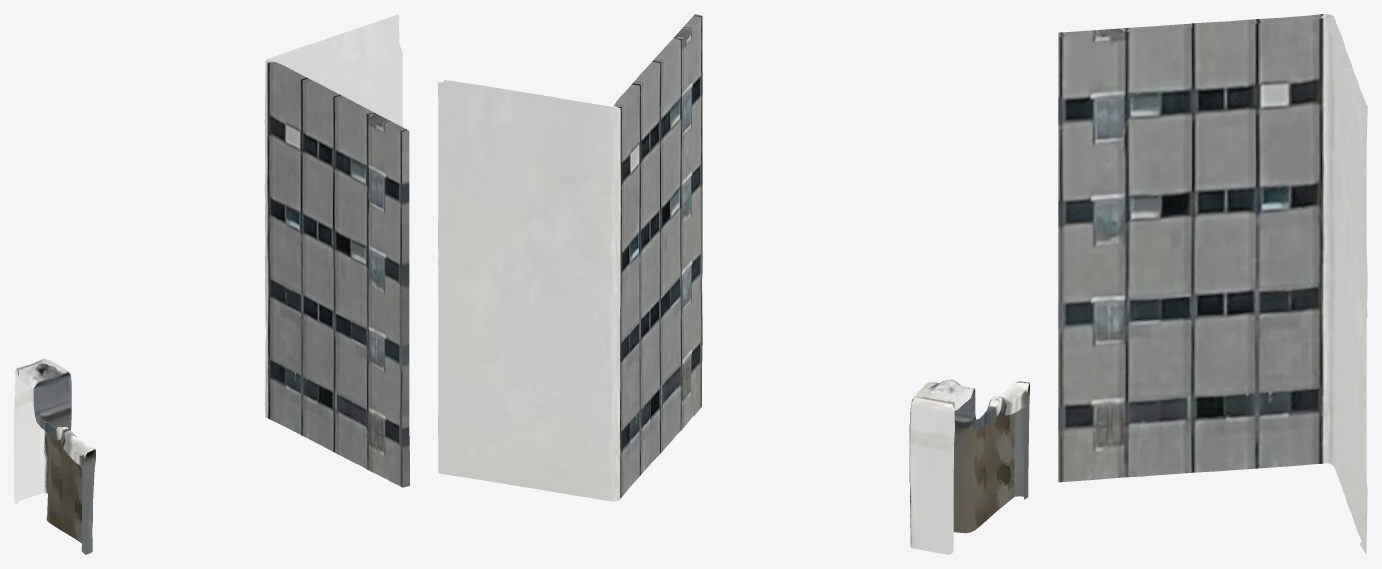
Rendered from z20-167756-405236-h1-yup-uvflip-v3-world.glb.
The picture shows the model from 3 angles, left to right: view 1: azimuth 30°, elevation 25°; view 2: azimuth 150°, elevation 25°; view 3: azimuth 270°, elevation 25°; orthographic projection. The views are drawn at different scales.
Bounding box in the file's own units: 30.2 × 24.12 × 15.04.
1 material, 1 textured.
